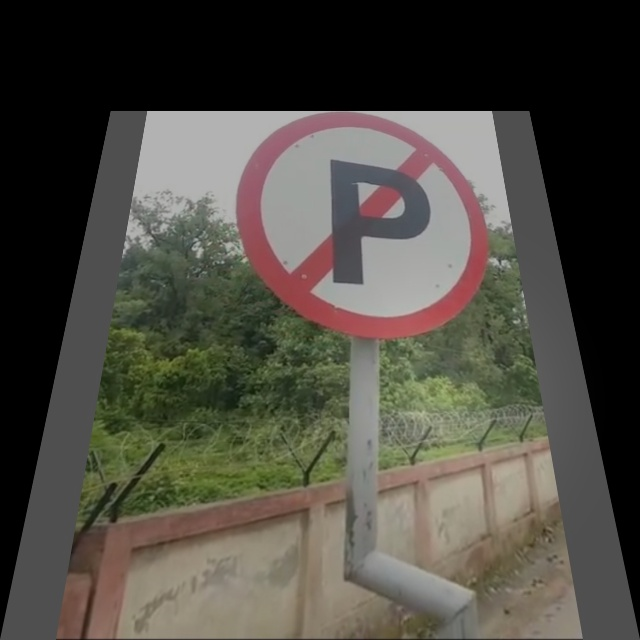No_Parking: (234, 114, 498, 332)
